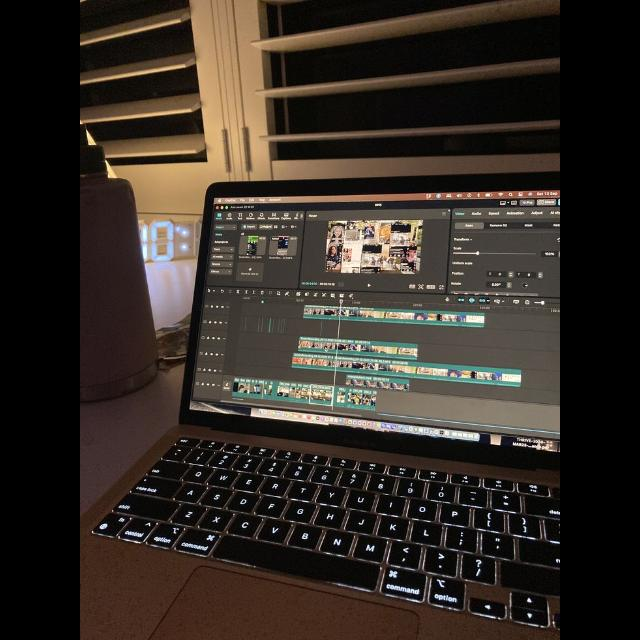laptop: (92, 170, 560, 640)
